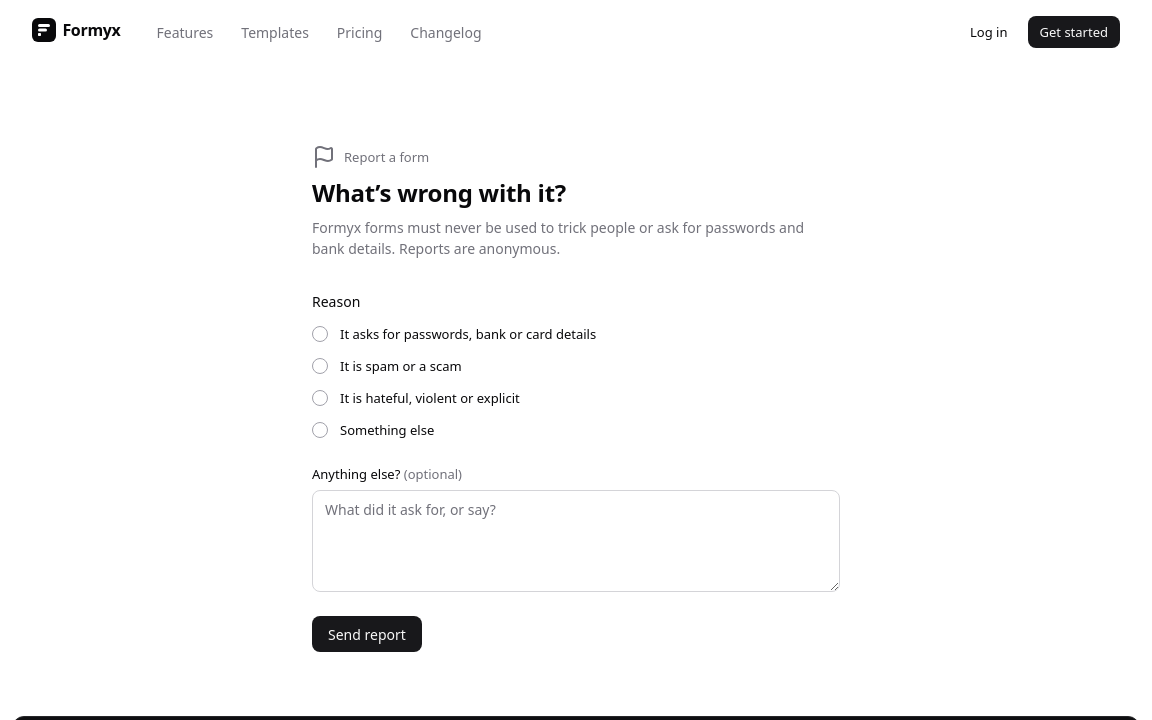
ReportPage › sends a reason and details, then thanks them
Click the button "Send report": (367, 634) [312,616,422,652]
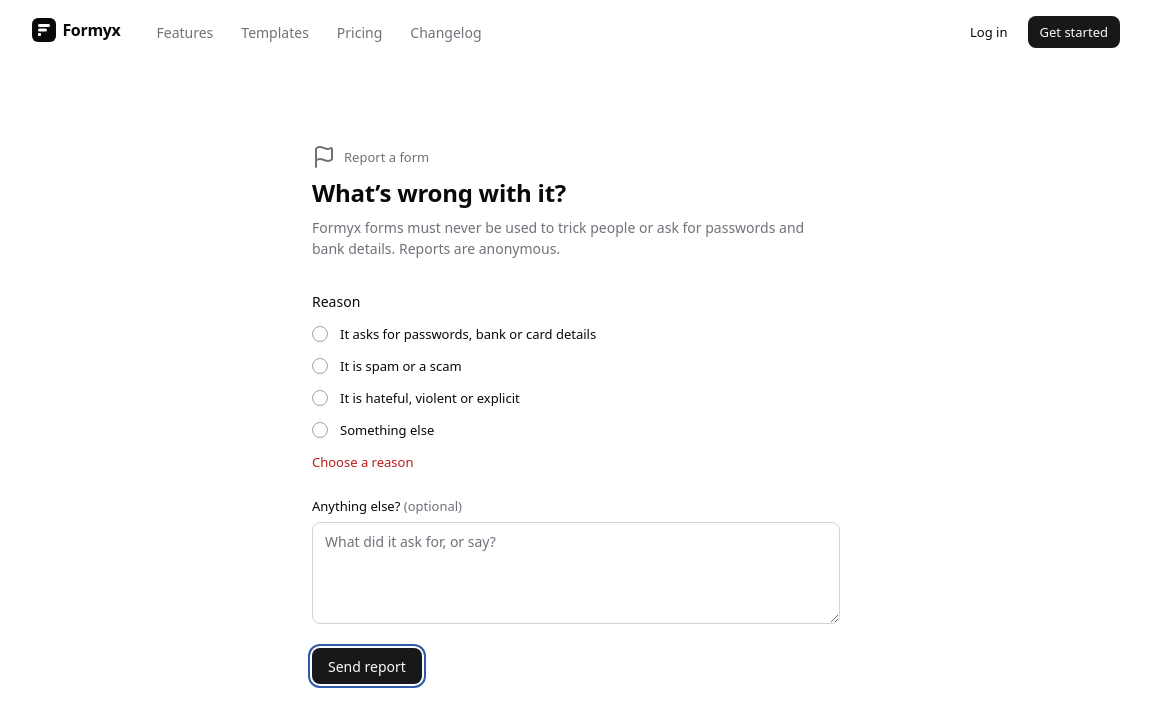
Check: the text "Choose a reason" is shown, box [312,453,414,471]
Click the 1st radio button named "It asks for passwords, bank or card details": (320, 334) [312,326,328,342]
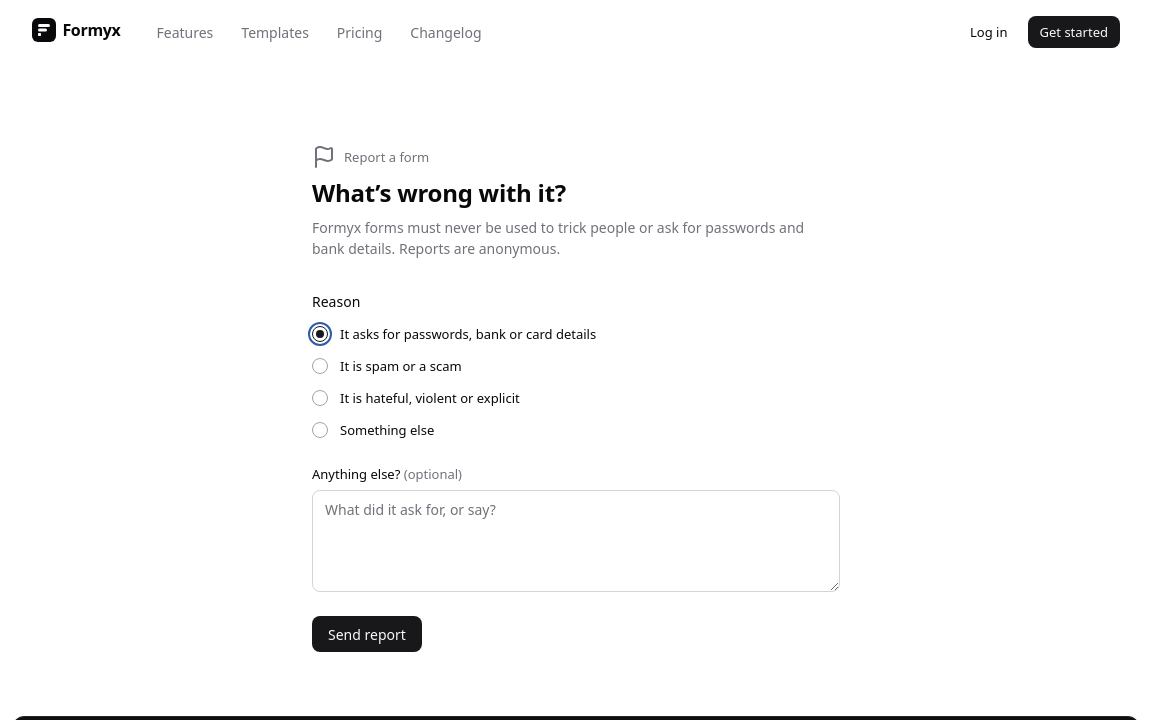
In the text box labelled "Anything else? (optional)": (576, 541) [312,490,840,592], type "Asked for my OTP"
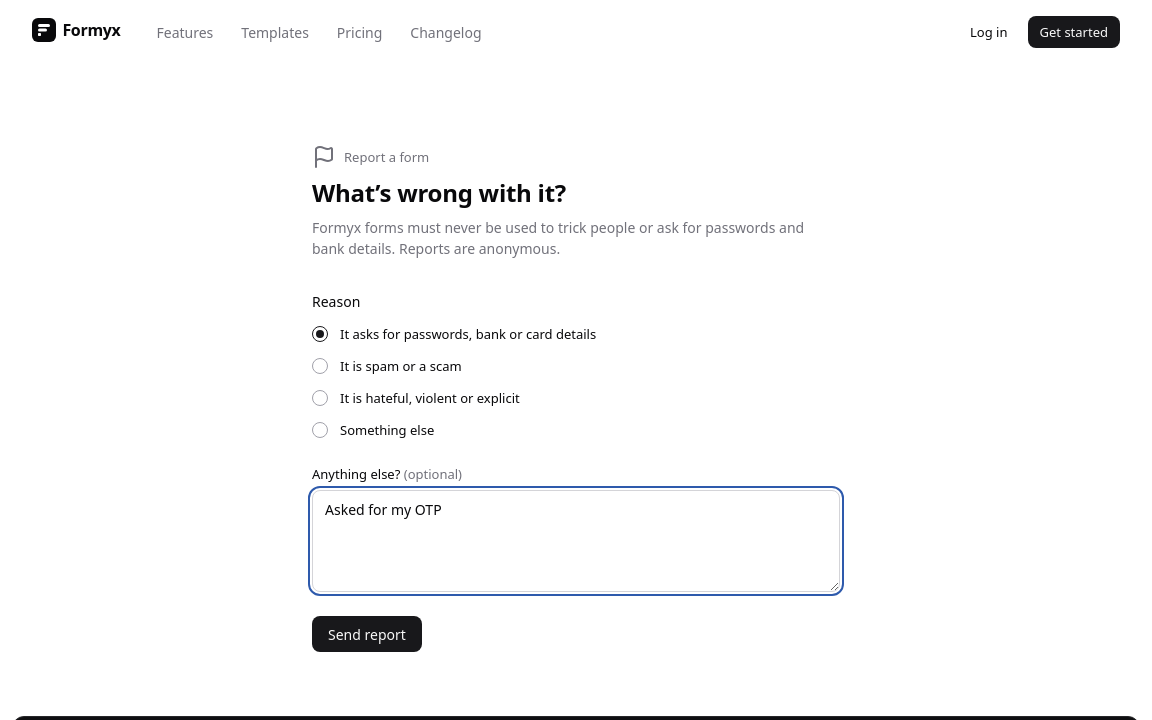
Click the button "Send report": (367, 634) [312,616,422,652]
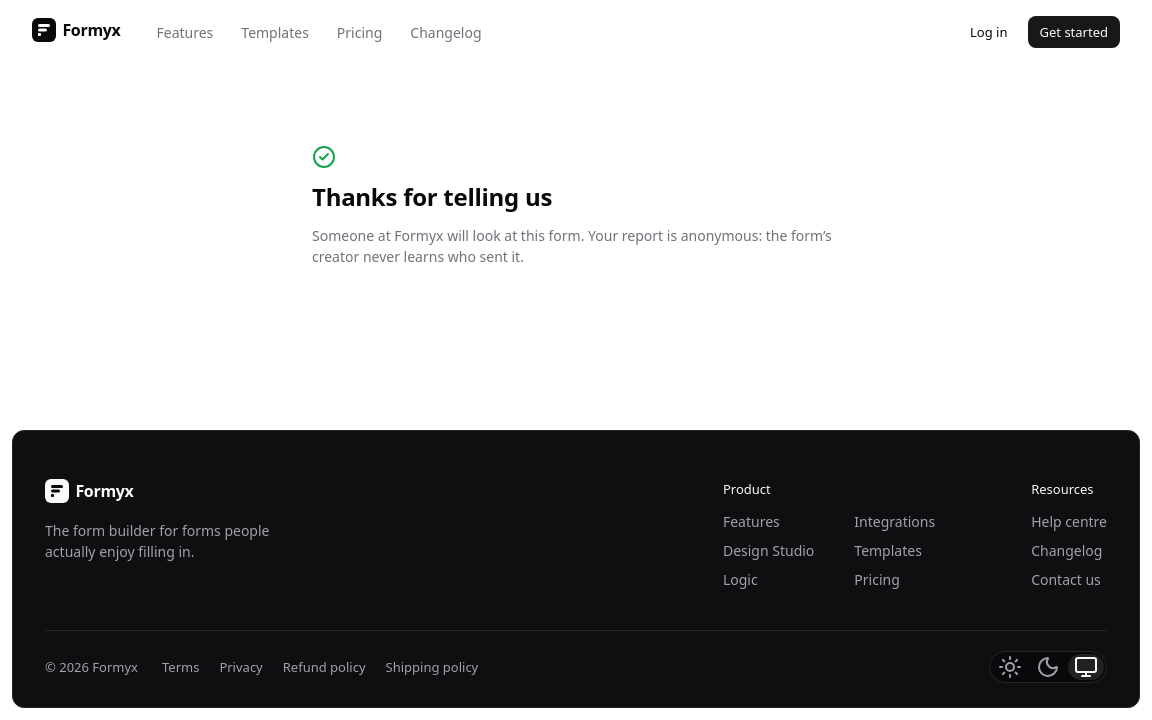
Check: the heading "Thanks for telling us" is shown, box [312,181,552,213]
